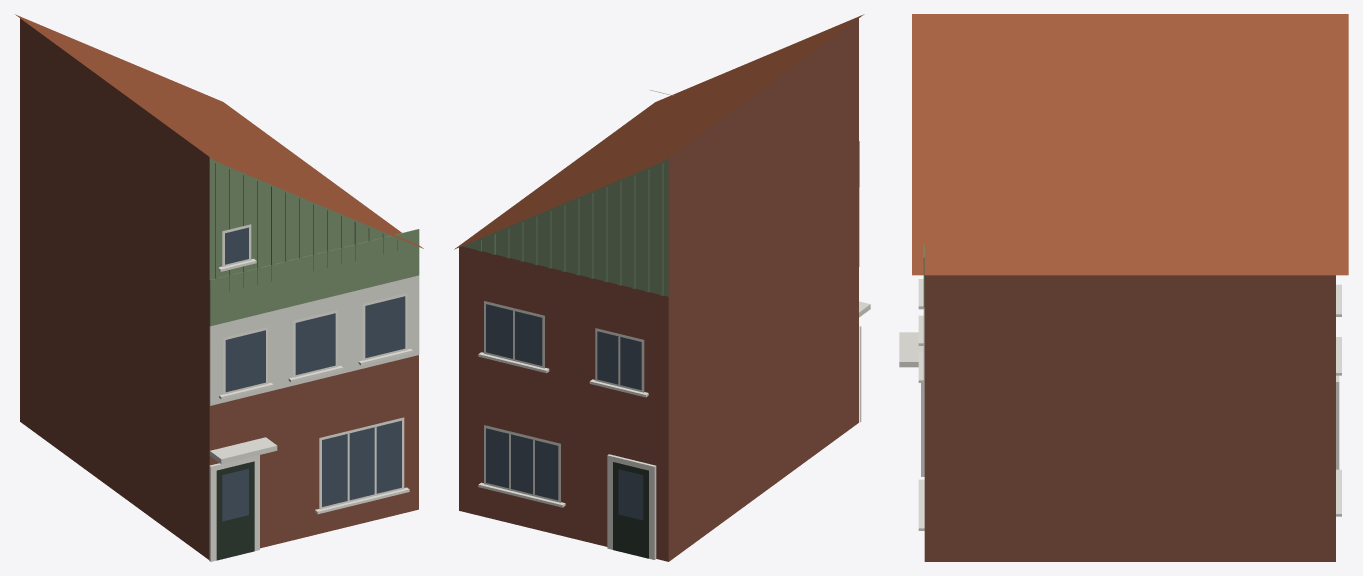
The model's file is nd-bz-green-gable__green__2__gable__short__solid__f1d1__mirror.glb.
3 views of the same model, side by side, from view 1: azimuth 30°, elevation 25°; view 2: azimuth 150°, elevation 25°; view 3: azimuth 270°, elevation 25° (orthographic). The views are drawn at different scales.
Visible parts, largest first — view 1: nd-bz-green-gable__green__2__gable__short__solid__f1d1__mirr; view 2: nd-bz-green-gable__green__2__gable__short__solid__f1d1__mirr; view 3: nd-bz-green-gable__green__2__gable__short__solid__f1d1__mirr.
Boxes of the visible parts, <box> form: nd-bz-green-gable__green__2__gable__short__solid__f1d1__mirr: <box>15,14,423,561</box>; nd-bz-green-gable__green__2__gable__short__solid__f1d1__mirr: <box>454,14,870,561</box>; nd-bz-green-gable__green__2__gable__short__solid__f1d1__mirr: <box>899,14,1348,561</box>.
Size of the model in its own units: 5.24 by 9.63 by 8.96.
